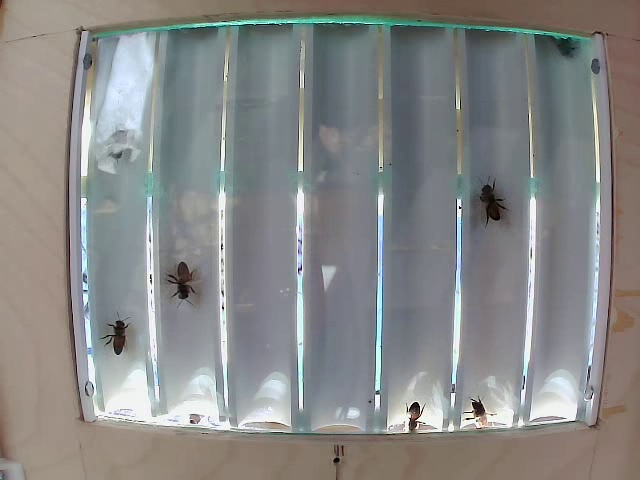bee: (463, 170, 509, 231), (169, 255, 210, 314), (104, 305, 140, 362)
